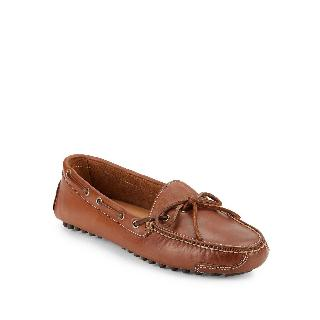loafers: (49, 146, 275, 282)
